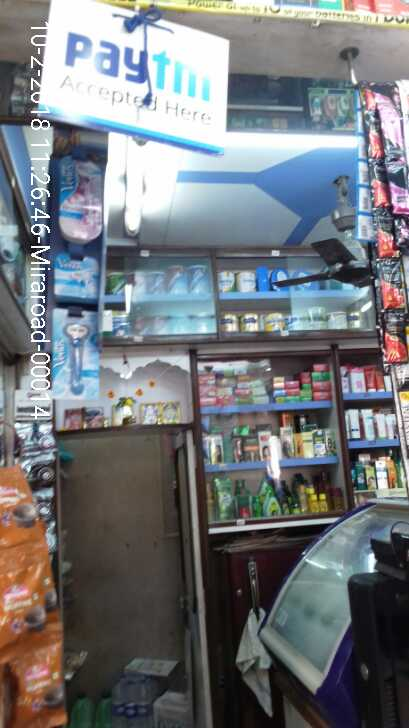venus: (53, 149, 108, 253), (52, 310, 103, 399), (51, 254, 100, 303)
